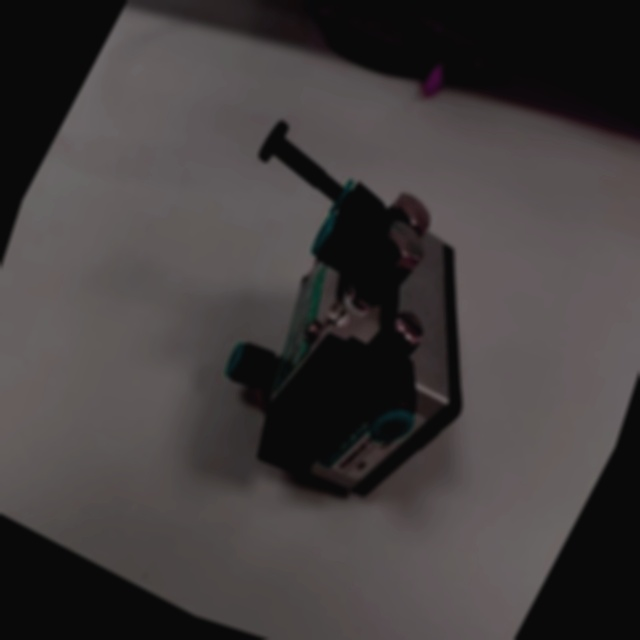5by2 DCV: (100, 88, 566, 563)
